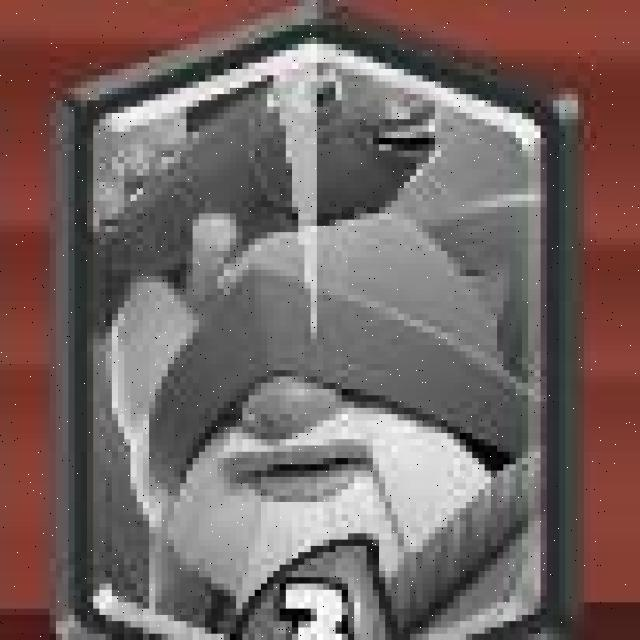Fisherman: (66, 9, 565, 640)
